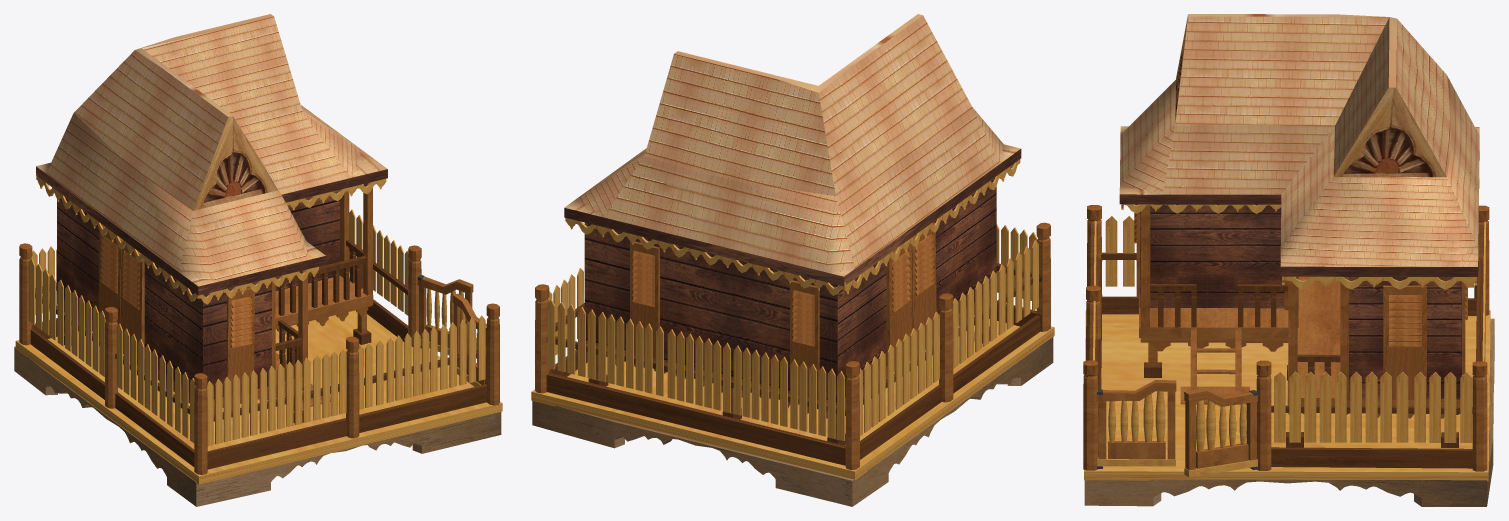
Rendered from rumah pagar.fbx.
3 views of the same model, side by side, from view 1: azimuth 30°, elevation 25°; view 2: azimuth 150°, elevation 25°; view 3: azimuth 270°, elevation 25° (orthographic). The views are drawn at different scales.
Parts seen in each view (by area): view 1: group23_pCube192.001; view 2: group23_pCube192.001; view 3: group23_pCube192.001.
Part boxes in pixels (left/top/right/bottom): group23_pCube192.001: left=14, top=14, right=502, bottom=506; group23_pCube192.001: left=531, top=14, right=1054, bottom=506; group23_pCube192.001: left=1083, top=14, right=1494, bottom=506.
Size of the model in its own units: 1340 by 1345 by 1352.
8 materials, 7 textured.
